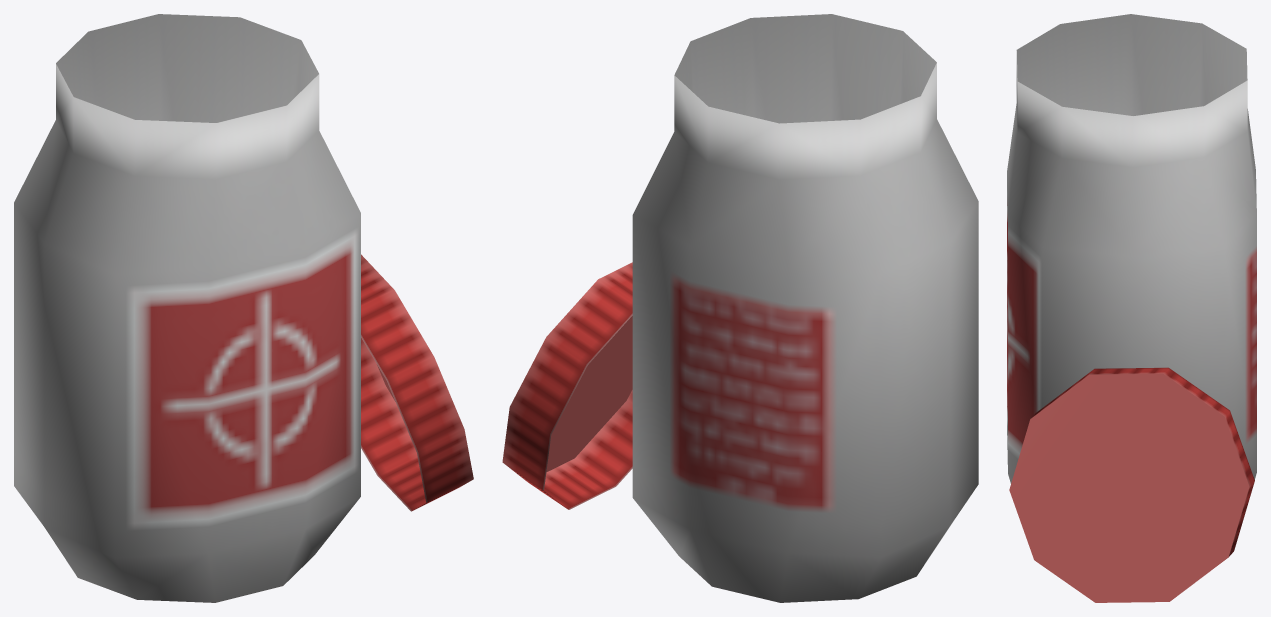
The model's file is GunpowderJarEmpty.fbx.
3 views of the same model, side by side, from view 1: azimuth 30°, elevation 25°; view 2: azimuth 150°, elevation 25°; view 3: azimuth 270°, elevation 25° (orthographic). The views are drawn at different scales.
Visible parts, largest first — view 1: GunpowdeJar; view 2: GunpowdeJar; view 3: GunpowdeJar.
Part boxes in pixels (x1,y1,x2,y2): GunpowdeJar: (14, 14, 473, 602); GunpowdeJar: (502, 14, 978, 602); GunpowdeJar: (1007, 14, 1256, 602).
Bounding box in the file's own units: 26.05 × 29.83 × 15.34.
